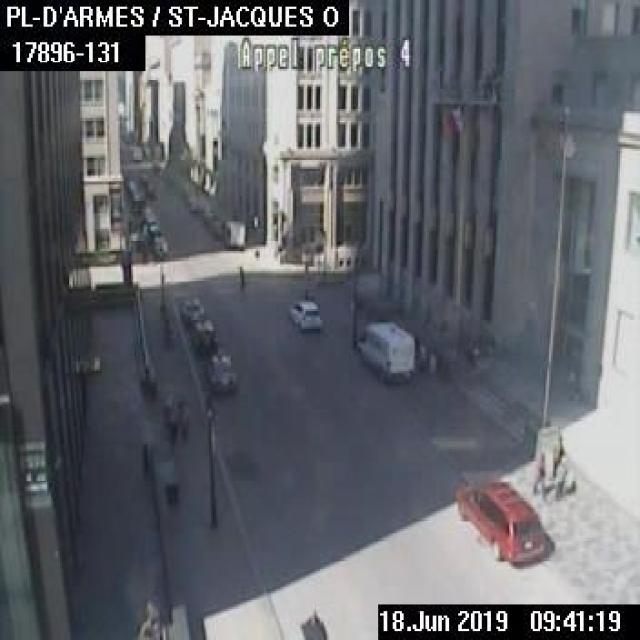cyclist: (238, 264, 244, 291)
pedestrian: (549, 431, 566, 493), (529, 449, 544, 495), (166, 398, 176, 441), (179, 398, 188, 440)
vehicle: (453, 475, 542, 561), (354, 321, 412, 380), (205, 352, 234, 392), (287, 298, 322, 329), (189, 317, 217, 355), (223, 218, 244, 249), (179, 296, 203, 322), (150, 236, 167, 256), (146, 224, 160, 240)
